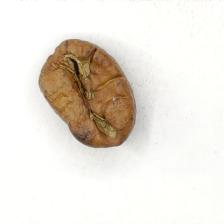NG: (65, 45, 130, 139)
